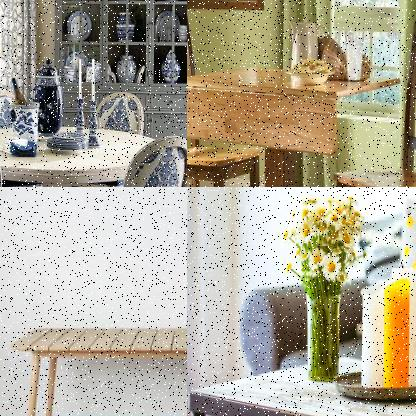table: (187, 59, 403, 186), (7, 321, 186, 415), (187, 349, 415, 415), (0, 118, 170, 186)
